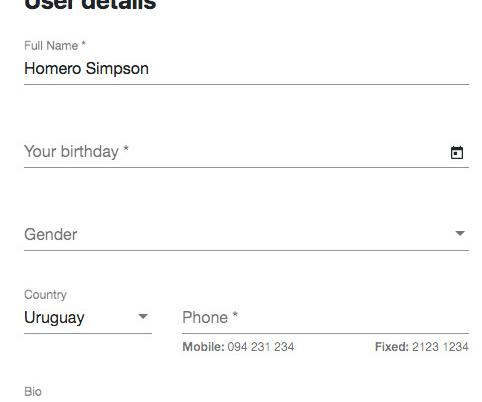field_line: (20, 134, 468, 171), (18, 220, 475, 254), (22, 53, 469, 87), (175, 304, 471, 338), (21, 305, 154, 336)
field_line_with_label: (19, 38, 472, 88), (17, 288, 154, 337)
